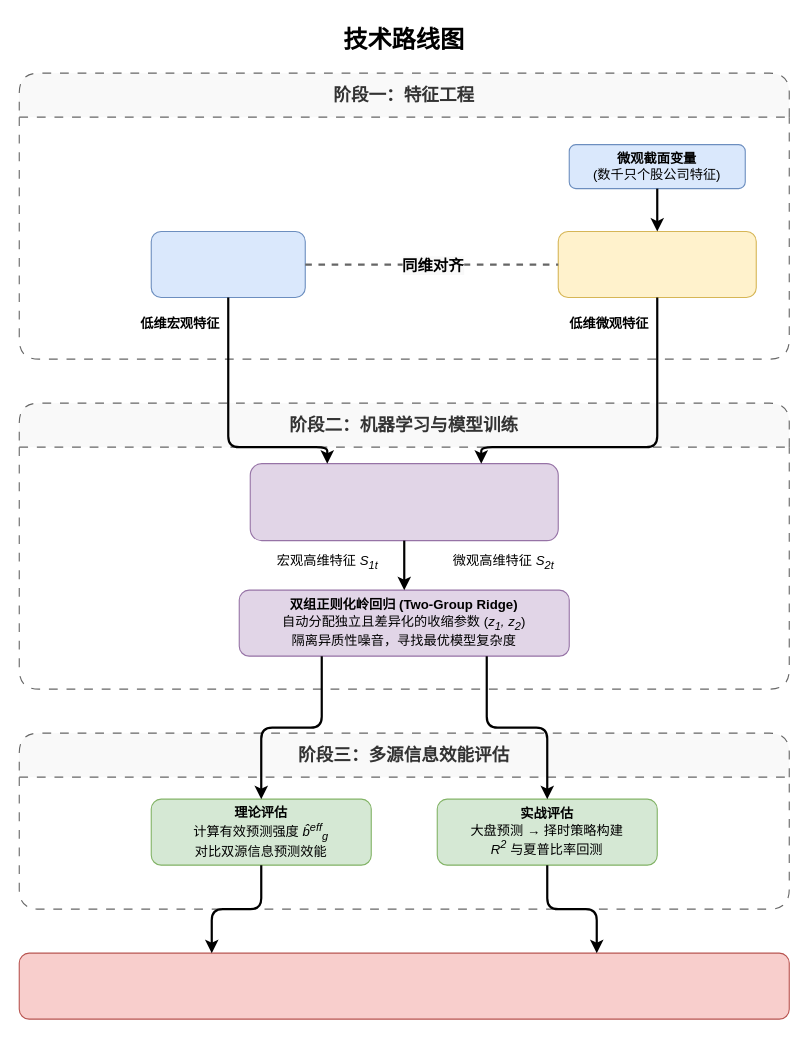
The diagram is 809 pixels wide and 1038 high, and some of its shapes have lost their labels. The shapes that lost their labels are listed below. From the top down, each one's centre as x and y in pixels, then its label:
pixel 227 264: 宏观时序变量 (利率, 通胀率等)
pixel 656 264: 基于摘要的降维 计算一阶矩/二阶矩/分位数 （重构为时序指标）
pixel 403 502: 随机傅里叶特征 (RFF) 非线性映射 【核心：捕捉复杂的非线性规律】 引入高斯随机权重矩阵 将对齐后的低维特征映射至高维空间
pixel 403 985: 【预期成果】 产出学术论文：《市场收益预测中的多源信息效能比较研究》
